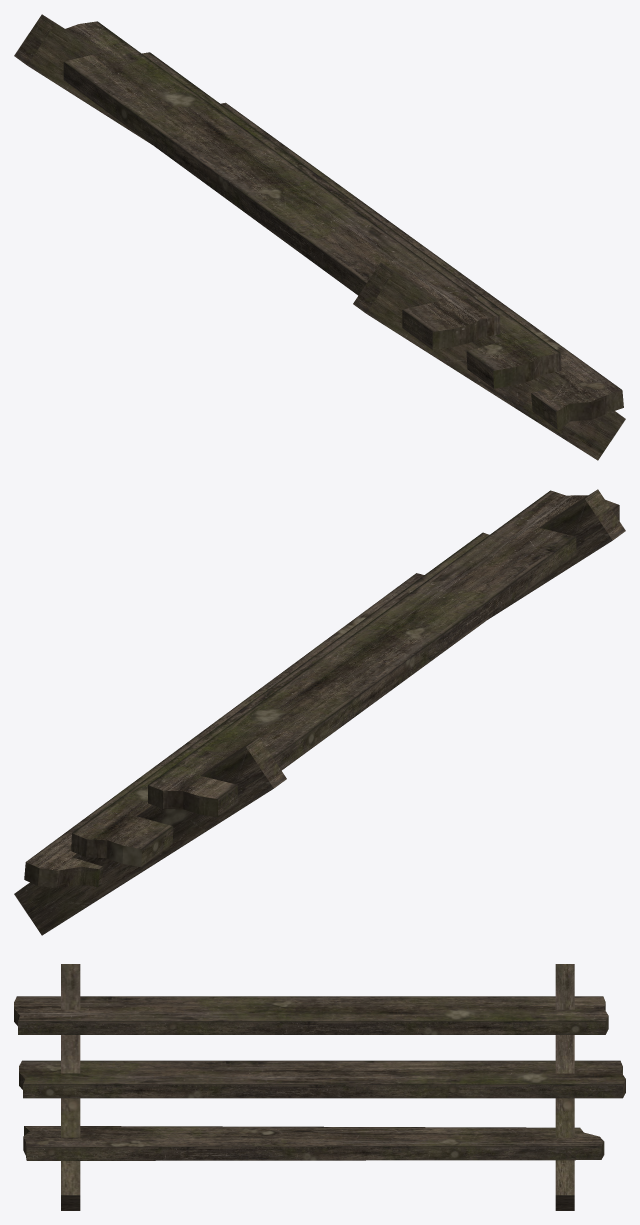
File: dock_stairs.fbx
3 views of the same model, one above another, from view 1: azimuth 30°, elevation 25°; view 2: azimuth 150°, elevation 25°; view 3: azimuth 270°, elevation 25° (orthographic). The views are drawn at different scales.
Parts seen in each view (by area): view 1: dock_stairs; view 2: dock_stairs; view 3: dock_stairs.
Part boxes in pixels (left/top/right/bottom): dock_stairs: left=14, top=14, right=625, bottom=460; dock_stairs: left=14, top=489, right=625, bottom=935; dock_stairs: left=14, top=964, right=625, bottom=1210.
Size of the model in its own units: 146 by 128 by 408.
